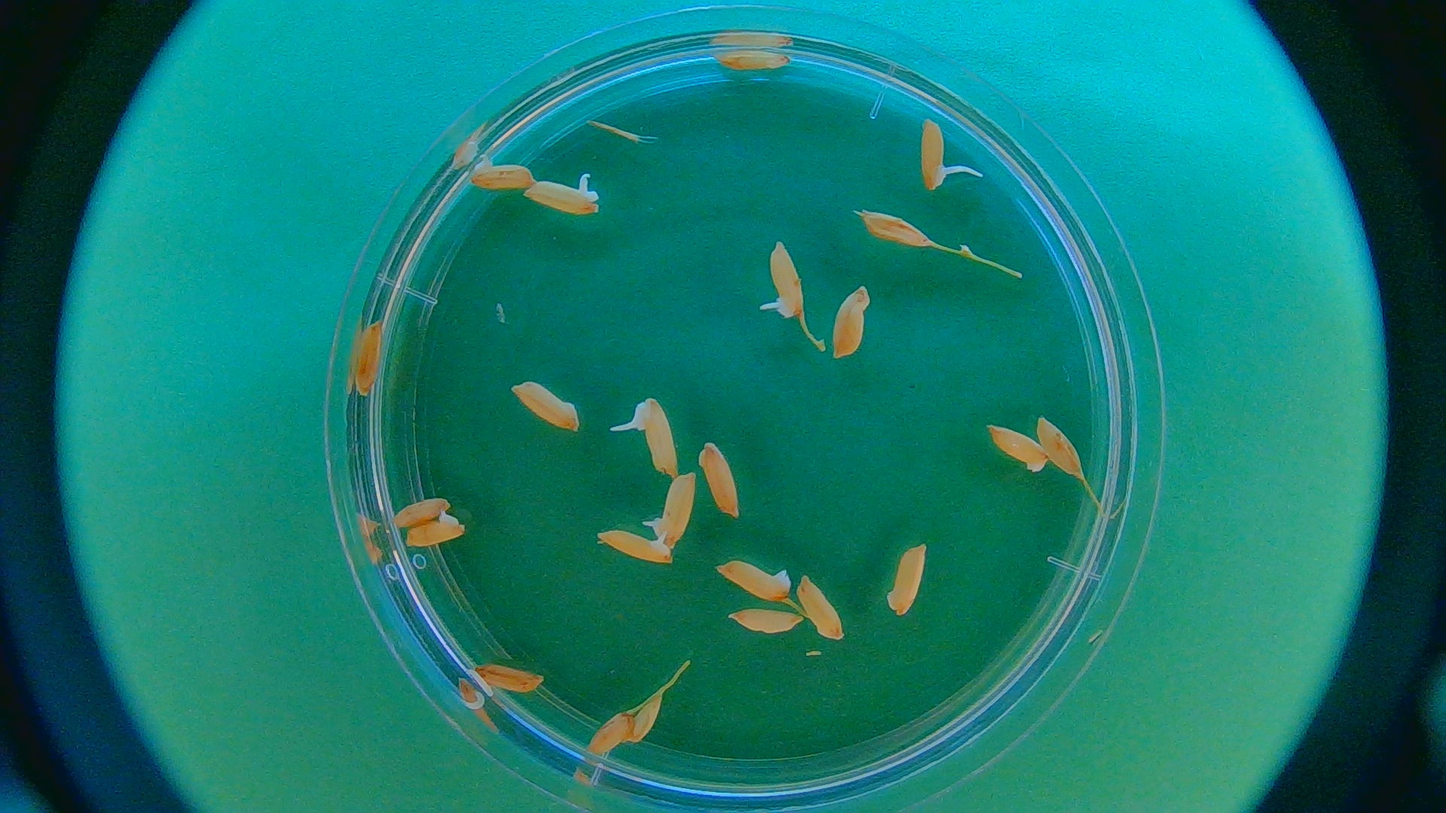no: (697, 434, 749, 525), (509, 380, 584, 435), (826, 285, 878, 361), (715, 558, 796, 604), (1033, 411, 1083, 480), (887, 540, 931, 618), (856, 205, 933, 249), (796, 577, 847, 642), (349, 318, 389, 397), (990, 426, 1051, 472), (725, 604, 810, 636), (579, 710, 635, 757), (625, 692, 667, 747), (402, 513, 465, 548), (716, 46, 789, 72), (399, 496, 447, 525)
yes: (636, 400, 679, 481), (466, 660, 542, 703), (526, 178, 601, 219), (655, 470, 698, 539), (598, 528, 673, 567), (767, 243, 803, 320), (466, 154, 533, 193), (918, 116, 950, 192)
